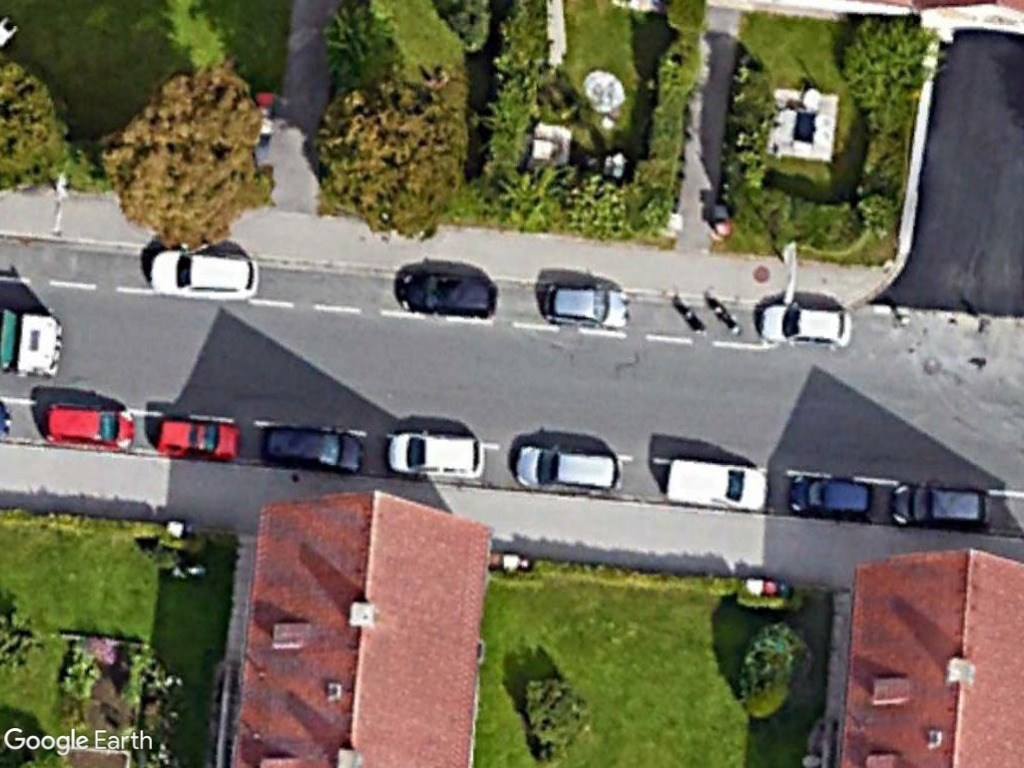car: (510, 440, 630, 499), (144, 246, 262, 304), (888, 480, 999, 536), (394, 269, 502, 323), (383, 428, 489, 483), (40, 397, 140, 454), (264, 424, 369, 477), (785, 468, 878, 525), (754, 301, 857, 352), (538, 279, 633, 331), (149, 414, 245, 462)
van: (660, 455, 773, 517)
